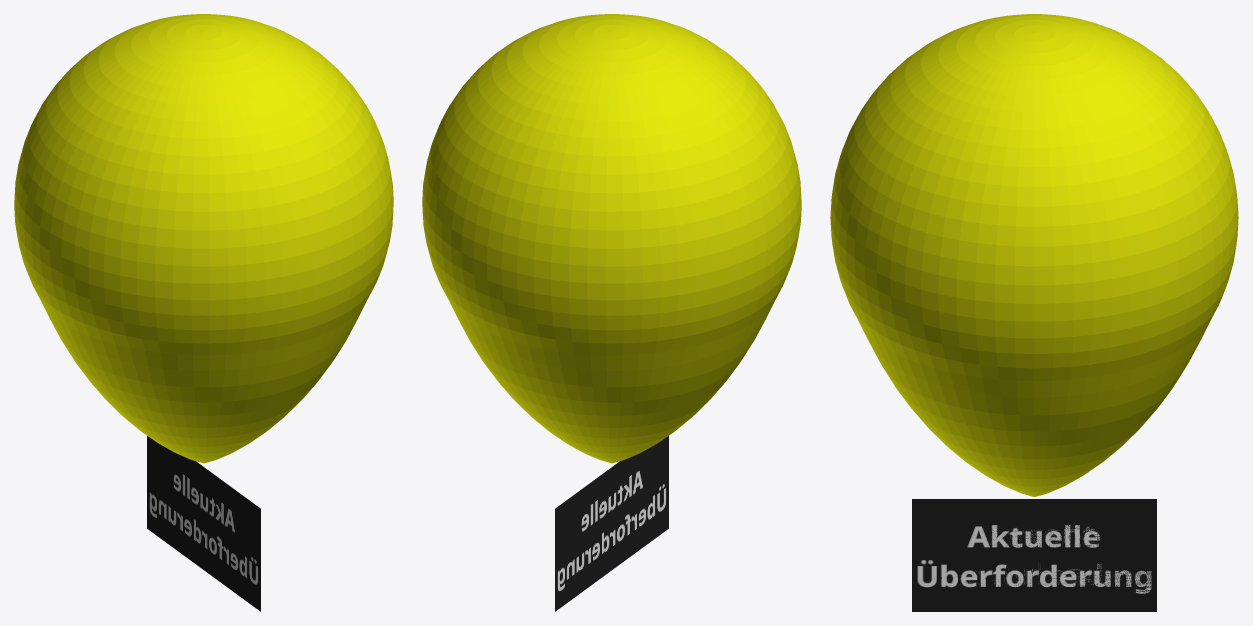
Rendered from ballon_01.glb.
3 renders of one model, left to right at view 1: azimuth 30°, elevation 25°; view 2: azimuth 150°, elevation 25°; view 3: azimuth 270°, elevation 25°, orthographic. The views are drawn at different scales.
Parts seen in each view (by area): view 1: Balloon, Sign_DE; view 2: Balloon, Sign_DE; view 3: Balloon, Sign_DE, Sign_EN.
Part boxes in pixels (x1,y1,x2,y2): Balloon: [14, 14, 393, 463]; Sign_DE: [147, 436, 260, 611]; Balloon: [422, 14, 801, 463]; Sign_DE: [555, 436, 668, 611]; Balloon: [830, 14, 1238, 496]; Sign_DE: [912, 501, 1156, 611]; Sign_EN: [912, 499, 1156, 609].
Size of the model in its own units: 2 by 3.13 by 2.
Materials: 3 (2 with a texture image).
